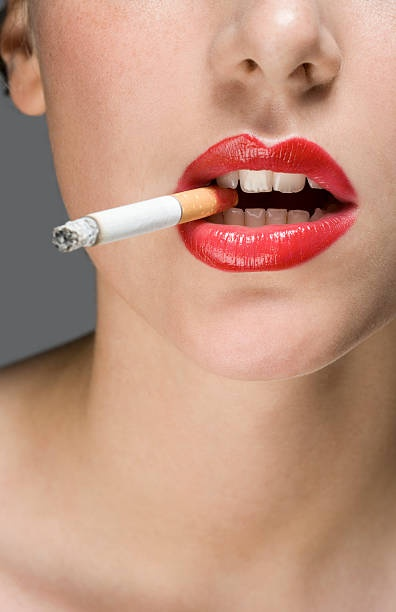sigaretta: (46, 178, 238, 248)
